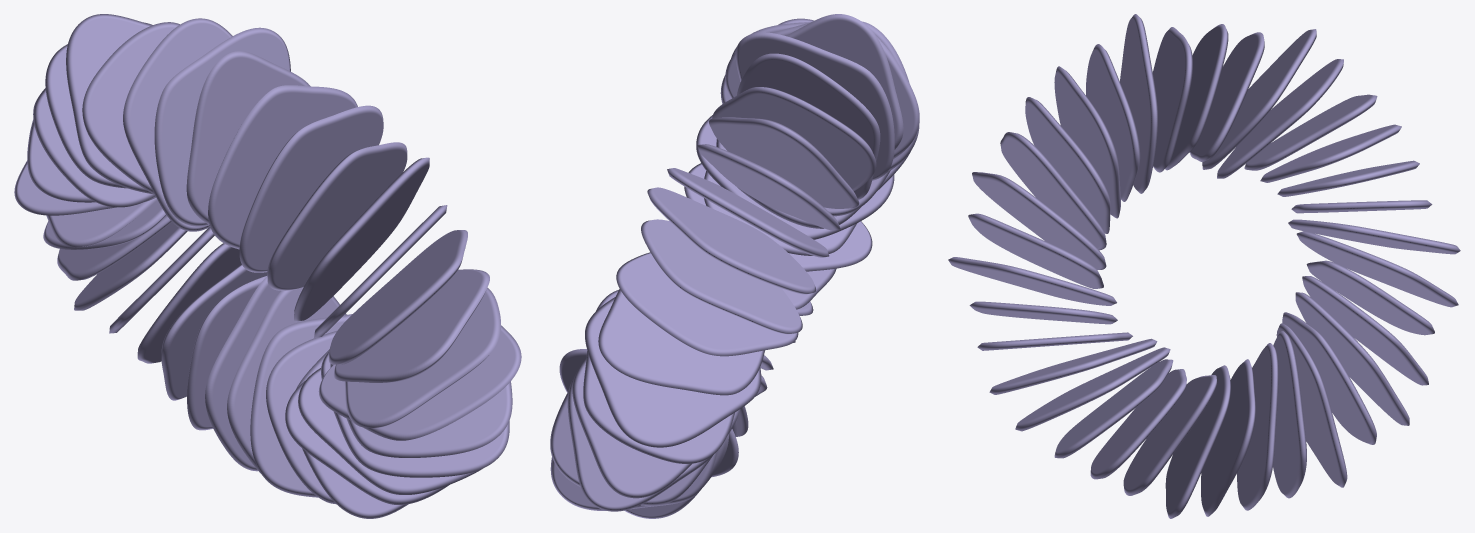
The model's file is chips.gltf.
3 views of the same model, side by side, from view 1: azimuth 30°, elevation 25°; view 2: azimuth 150°, elevation 25°; view 3: azimuth 270°, elevation 25° (orthographic). The views are drawn at different scales.
Size of the model in its own units: 2.86 by 4.19 by 4.5.
